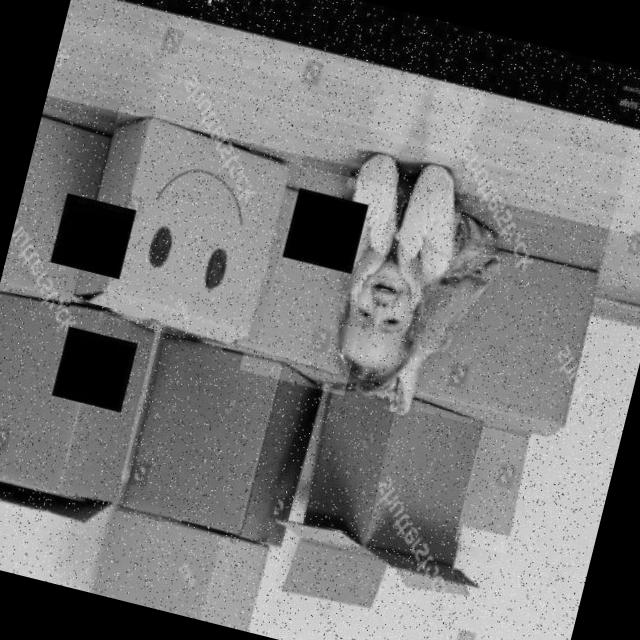box: (255, 367, 531, 640), (69, 108, 304, 354), (116, 321, 334, 554), (0, 277, 168, 542), (411, 234, 604, 446), (238, 162, 396, 396), (0, 105, 123, 315), (89, 508, 282, 636), (454, 419, 536, 554)
